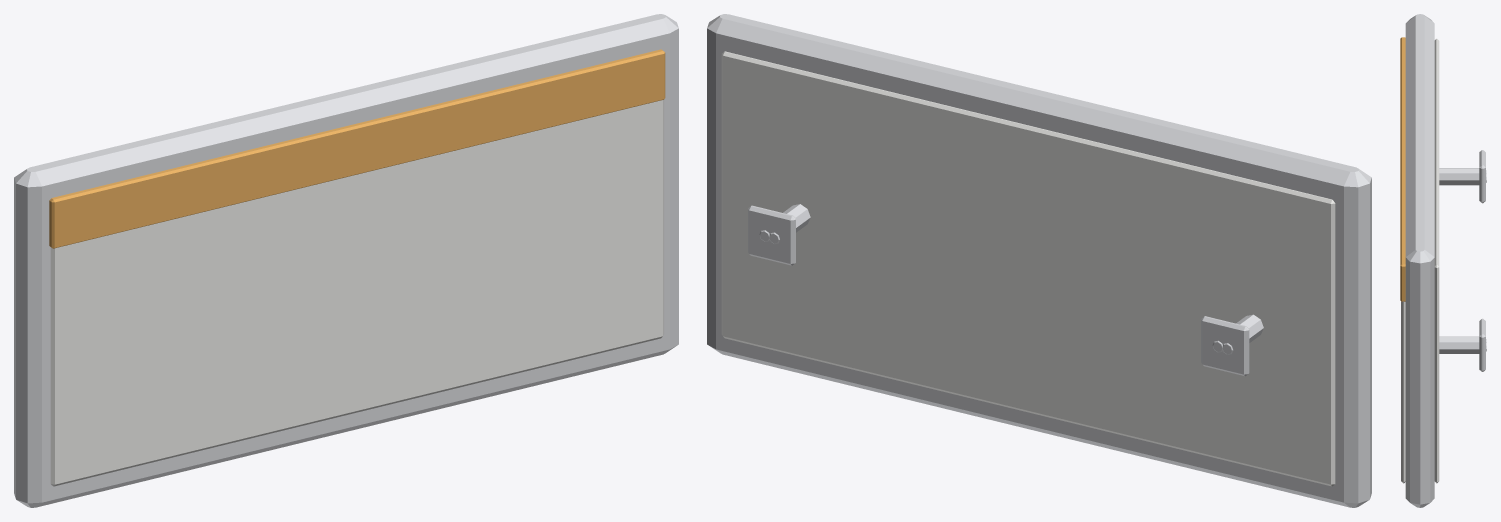
The model's file is L-wall-wayfinding-panel.glb.
The picture shows the model from 3 angles, left to right: view 1: azimuth 30°, elevation 25°; view 2: azimuth 150°, elevation 25°; view 3: azimuth 270°, elevation 25°; orthographic projection. The views are drawn at different scales.
Parts seen in each view (by area): view 1: wall-wayfinding-panel; view 2: wall-wayfinding-panel; view 3: wall-wayfinding-panel.
Boxes of the visible parts, x1=… form: wall-wayfinding-panel: x1=14, y1=14, x2=678, y2=507; wall-wayfinding-panel: x1=707, y1=14, x2=1371, y2=507; wall-wayfinding-panel: x1=1400, y1=14, x2=1486, y2=507.
Size of the model in its own units: 0.7 by 0.3399 by 0.104.
